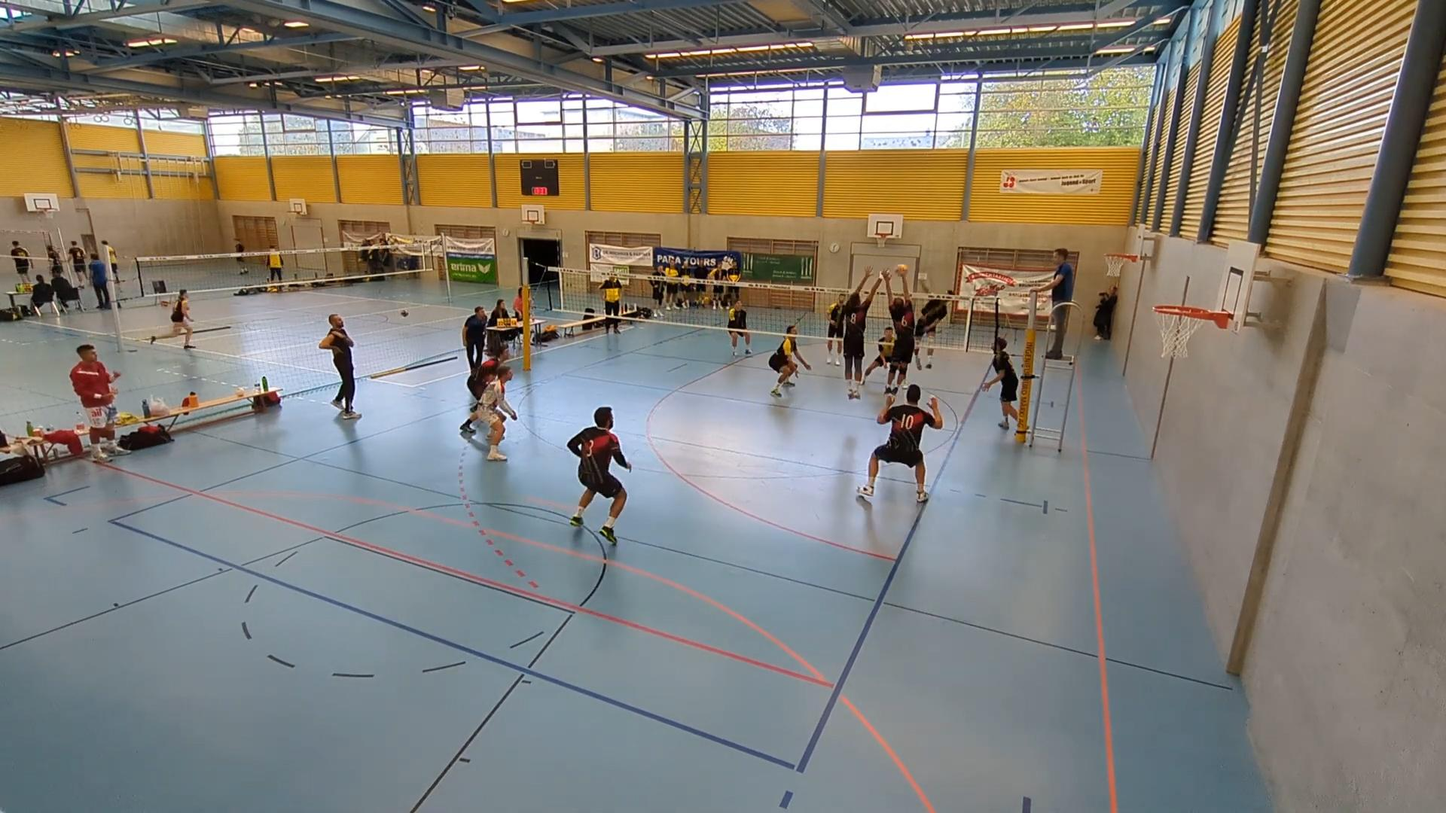attacco: (914, 281, 958, 373)
muro: (834, 269, 884, 410), (881, 266, 929, 401)
